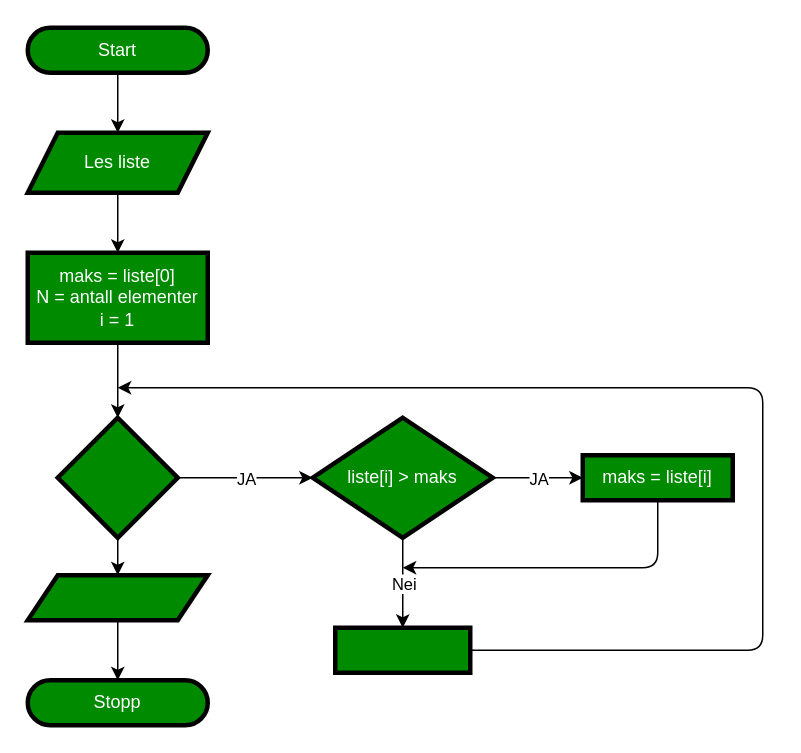
Some shapes in this 801 by 753 pixel diagram are drawn without their labels. Here are the shapes that lost their labels. From the top down, the box of each, then its label:
(55, 415, 179, 539): i <= N
(25, 572, 209, 622): Skriv maks
(332, 625, 472, 674): i += 1
